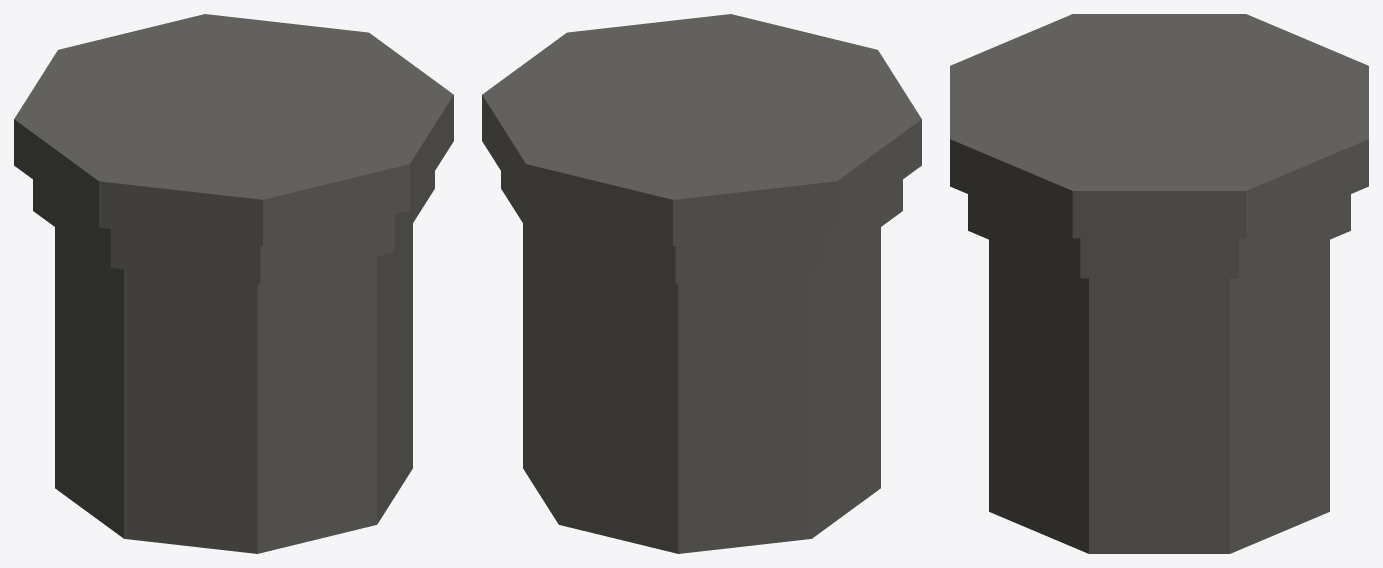
Rendered from SM_pillar_04.glb.
3 views of the same model, side by side, from view 1: azimuth 30°, elevation 25°; view 2: azimuth 150°, elevation 25°; view 3: azimuth 270°, elevation 25° (orthographic). The views are drawn at different scales.
Parts seen in each view (by area): view 1: SM_pillar_04; view 2: SM_pillar_04; view 3: SM_pillar_04.
Boxes of the visible parts, box(x1,y1,x2,y2) form: SM_pillar_04: box(14, 14, 453, 553); SM_pillar_04: box(482, 14, 921, 553); SM_pillar_04: box(950, 14, 1368, 553).
Bounding box in the file's own units: 2 × 2 × 2.
Materials: 1 (1 with a texture image).
